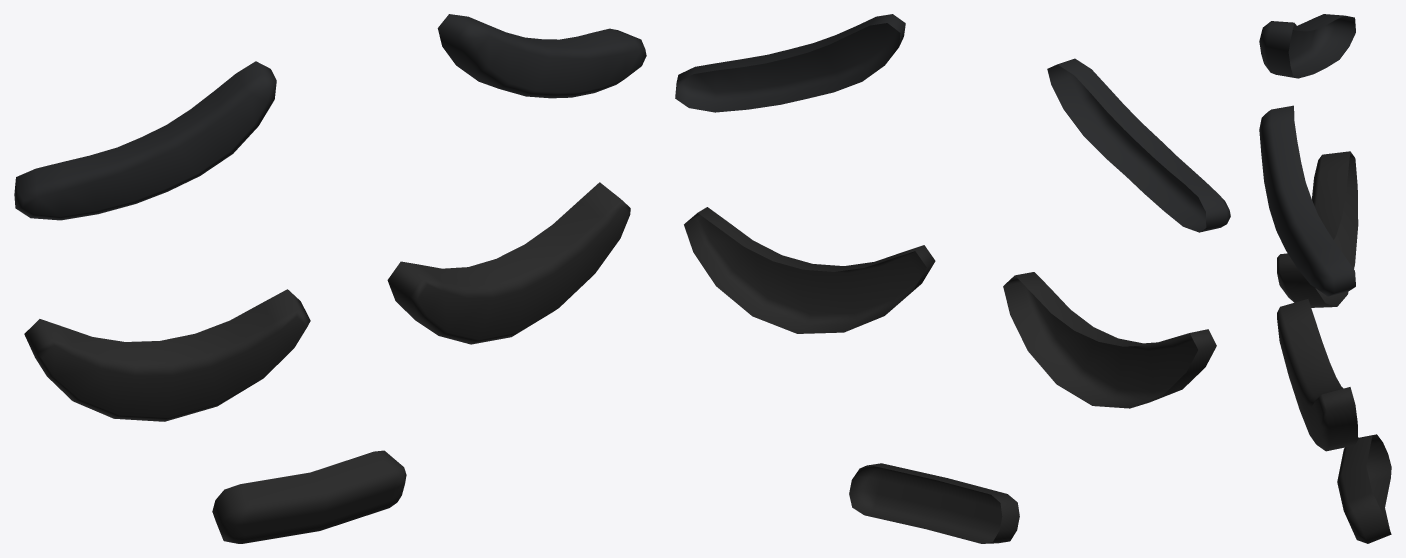
Rendered from Male_Emotion_Sad_02.glb.
3 renders of one model, left to right at view 1: azimuth 30°, elevation 25°; view 2: azimuth 150°, elevation 25°; view 3: azimuth 270°, elevation 25°, orthographic. The views are drawn at different scales.
Parts seen in each view (by area): view 1: Male_Emotion_Sad_02; view 2: Male_Emotion_Sad_02; view 3: Male_Emotion_Sad_02.
Boxes of the visible parts, x1,y1,x2,y2 form: Male_Emotion_Sad_02: (14, 14, 646, 543); Male_Emotion_Sad_02: (675, 14, 1230, 543); Male_Emotion_Sad_02: (1259, 14, 1391, 543).
Size of the model in its own units: 0.2504 by 0.1992 by 0.0531.
1 material, 1 textured.
